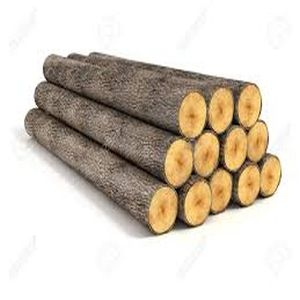log: (162, 139, 194, 187), (175, 89, 206, 138), (147, 187, 178, 234), (208, 87, 235, 134), (185, 180, 211, 228), (235, 164, 261, 208), (222, 126, 245, 174), (194, 132, 218, 177), (211, 170, 234, 215), (238, 84, 261, 128), (247, 121, 269, 164), (263, 155, 282, 198)
